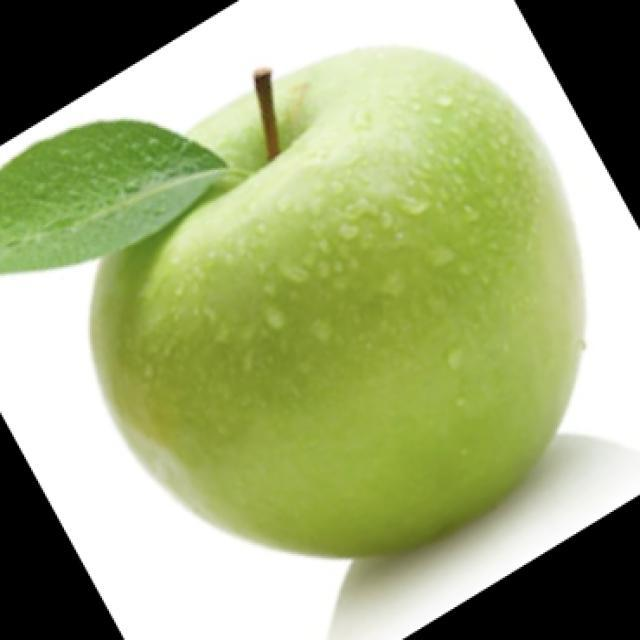Fresh Apple: (73, 57, 577, 573)
